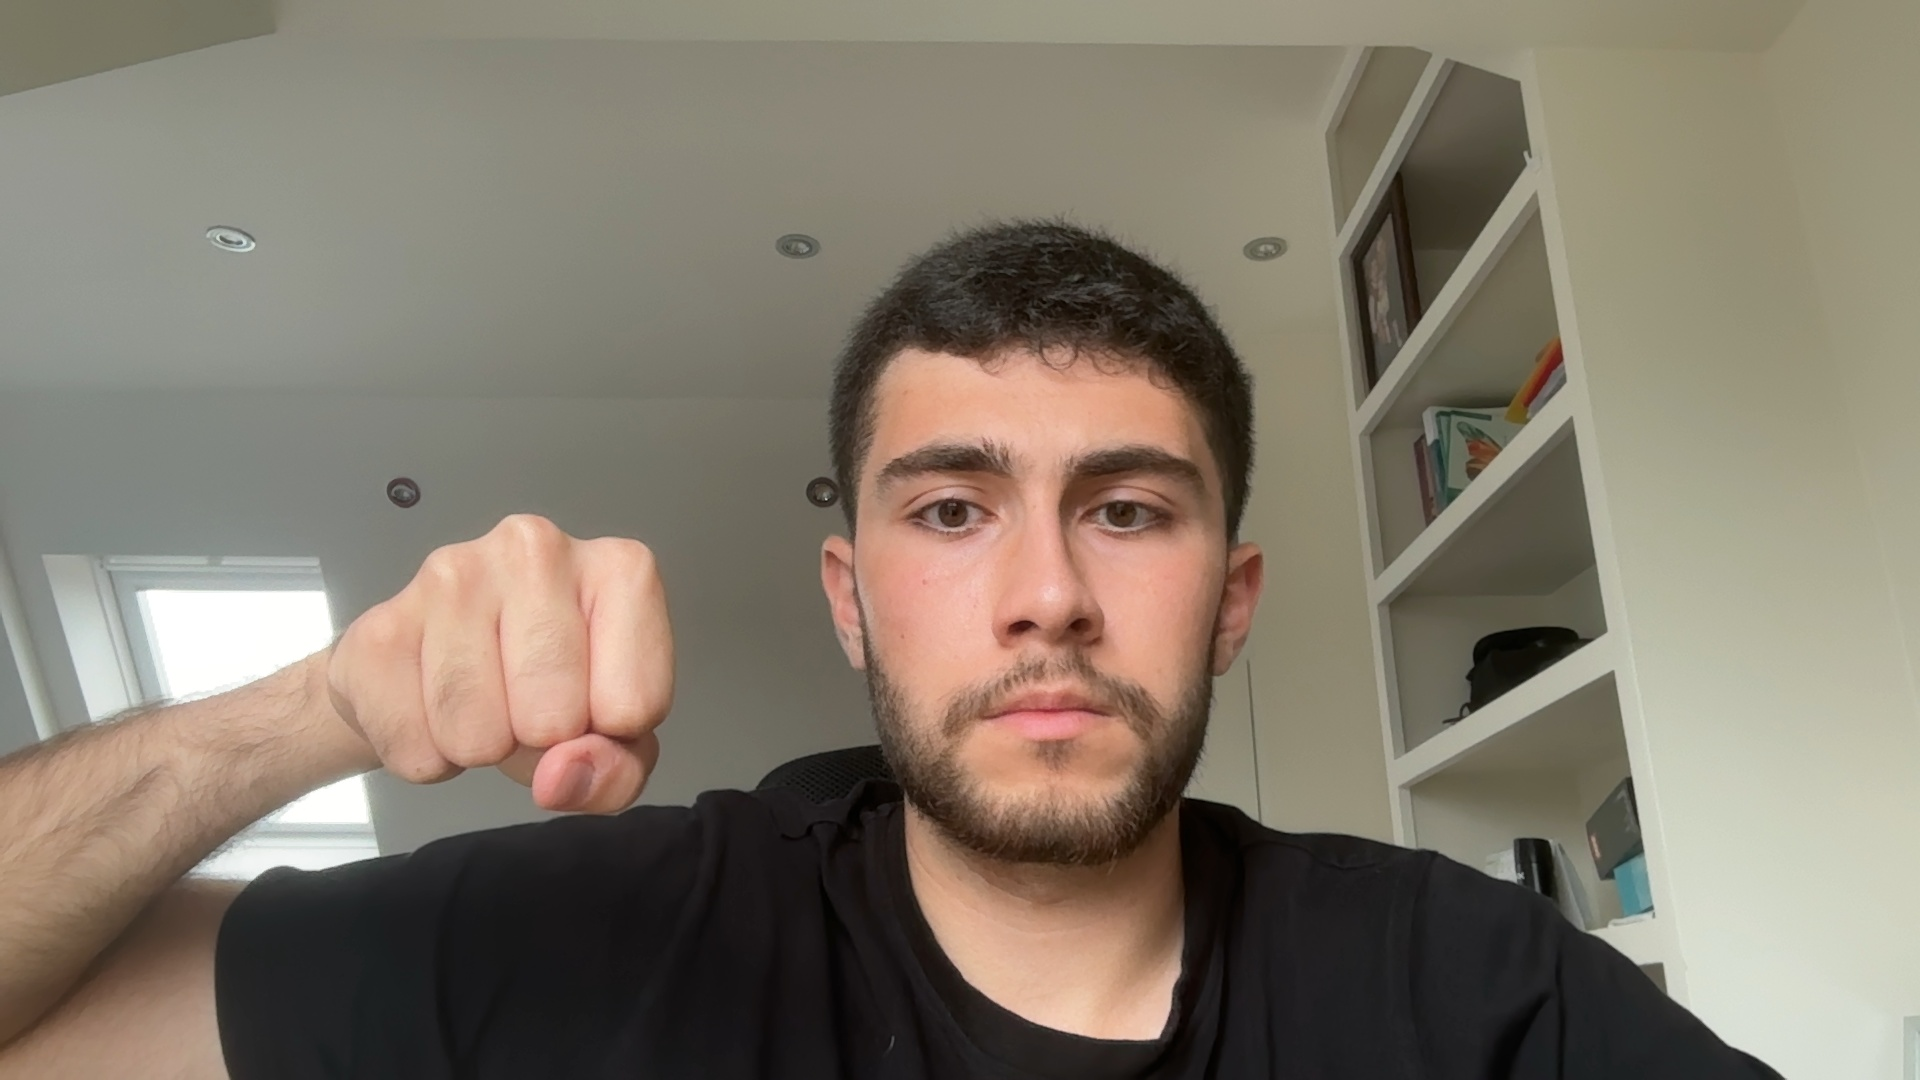yes: (258, 462, 737, 860)
